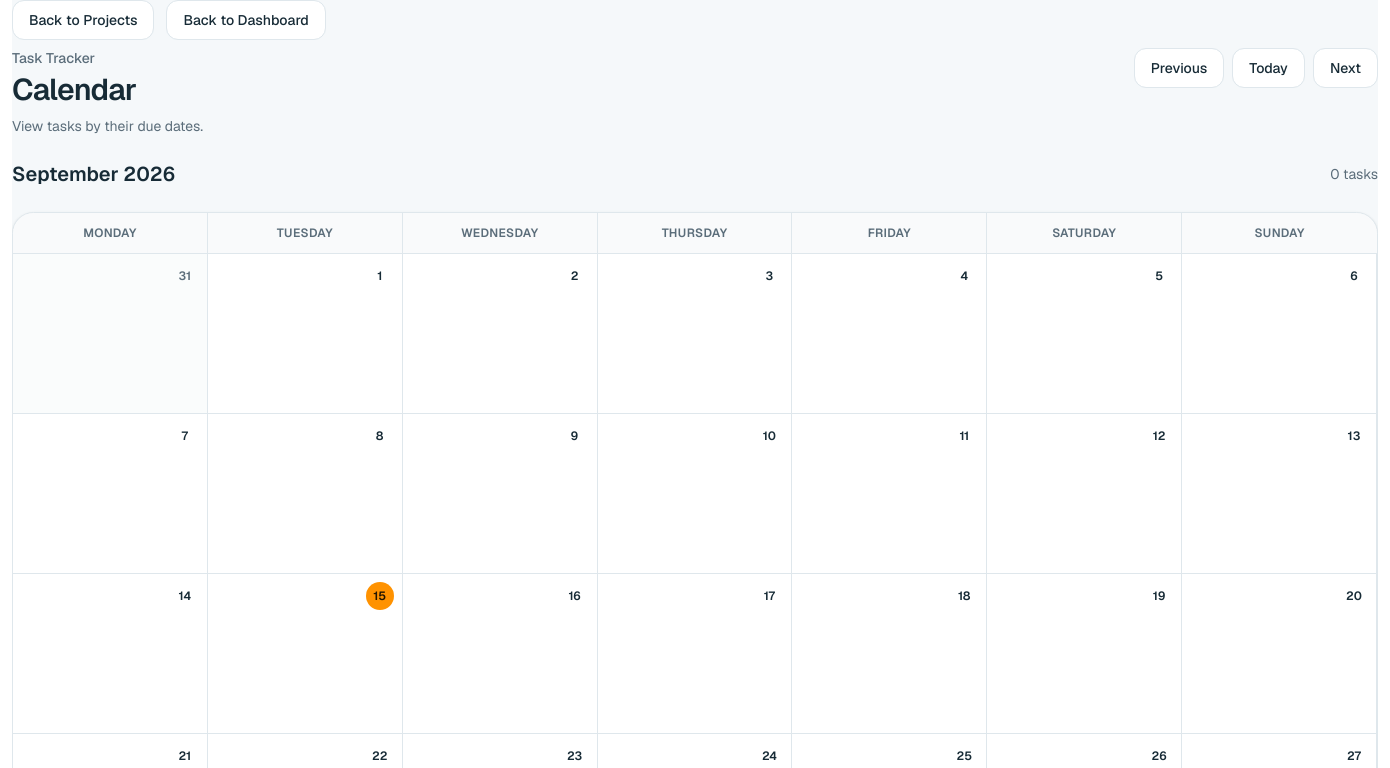
Test: CalendarView › returns to the current month with Today
The image size is (1390, 768).
Click the button "Next" at (1345,68), box [1313, 48, 1378, 88]
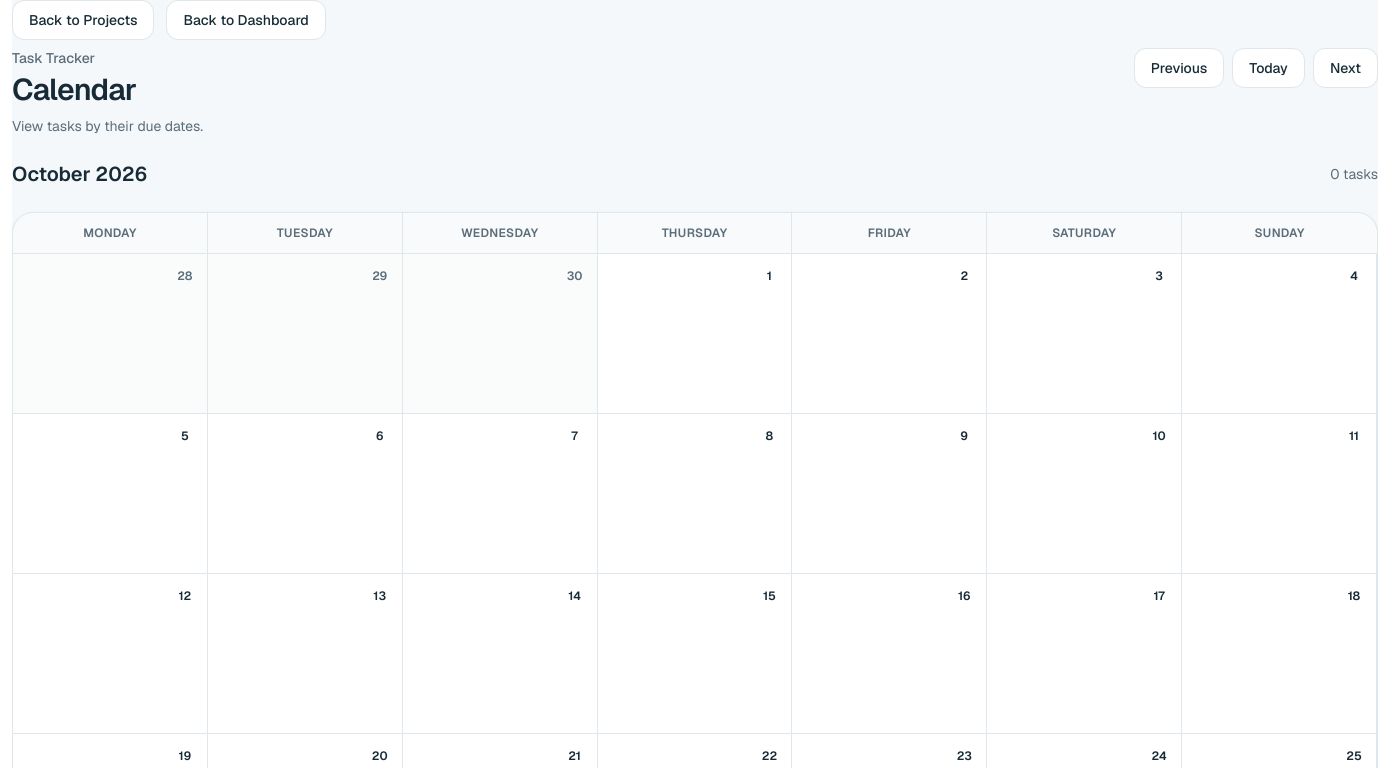
Result: the heading "October 2026" is shown at [12, 160, 147, 188]
Click the button "Today" at (1269,68), box [1232, 48, 1305, 88]
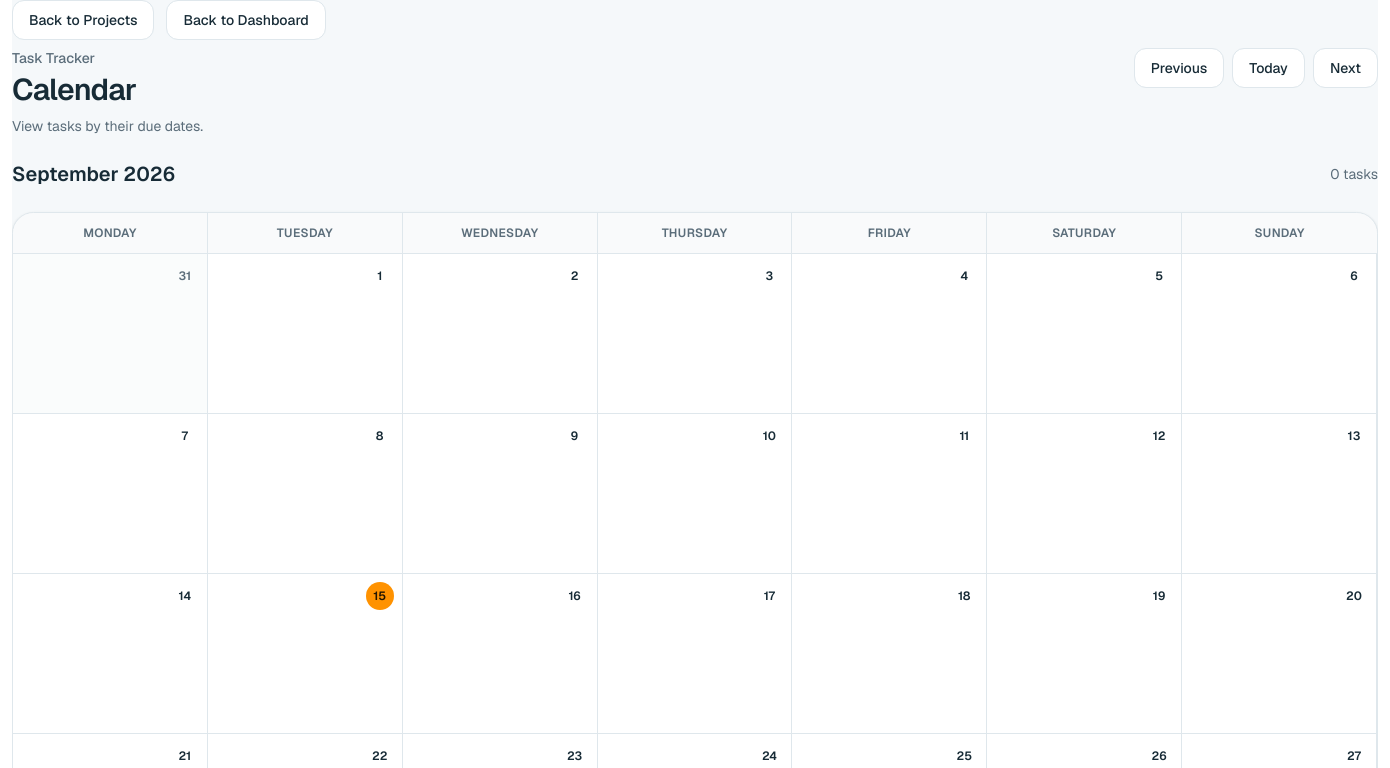
Result: the heading "September 2026" is shown at [12, 160, 175, 188]
